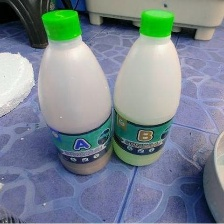insecticide: (34, 8, 113, 179), (110, 8, 183, 168)
